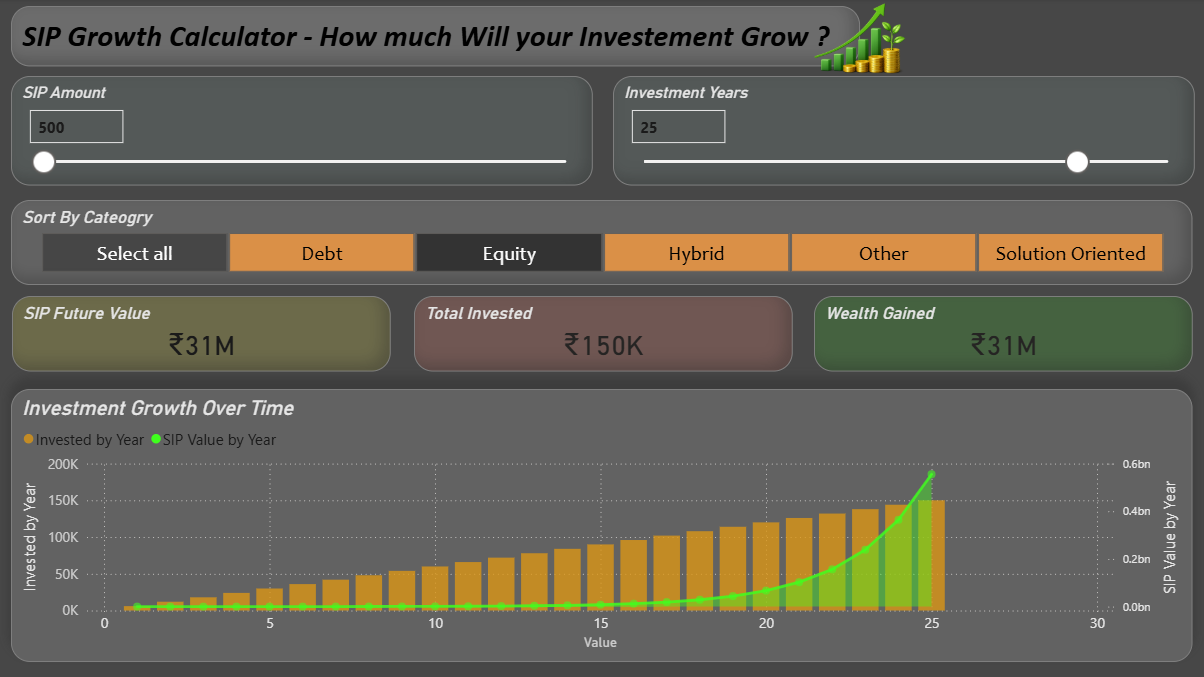

The dashboard page shown, as its layout file describes it:
{"tool":"powerbi","page":{"name":"SIP Growth Calculator ","canvas":[1280,720],"ordinal":2},"visuals":[{"type":"slicer","title":"SIP Amount ","fields":{"Values":["SIP Amount.SIP Amount"]},"box":[11.4,81.4,615.7,115.7],"z":0},{"type":"slicer","title":"Investment Years","fields":{"Values":["Investment Years.Investment Years"]},"box":[648.6,81.4,615.7,115.7],"z":1000},{"type":"card","title":"SIP Future Value ","fields":{"Values":["Investment Years.SIP Future Value"]},"box":[12.9,314.3,401.4,80],"z":2000},{"type":"card","title":"Total Invested ","fields":{"Values":["Investment Years.Total Invested"]},"box":[438.6,314.3,401.4,80],"z":3000},{"type":"card","title":"Wealth Gained","fields":{"Values":["Investment Years.Wealth Gained"]},"box":[861.4,314.3,401.4,80],"z":4000},{"type":"slicer","title":"Sort By Cateogry ","fields":{"Values":["categories.category"]},"box":[11.4,212.9,1251.4,90],"z":5000},{"type":"textbox","box":[11.4,7.1,898.6,64.3],"z":6000},{"type":"lineClusteredColumnComboChart","title":"Investment Growth Over Time","fields":{"Category":["Year Table.Value"],"Y":["Investment Years.Invested by Year"],"Y2":["Year Table.SIP Value by Year"]},"box":[11.4,412.9,1251.4,288.6],"z":7000},{"type":"image","box":[791.4,0,235.7,81.4],"z":8000}]}

Visuals, with their boxes in screenshot pixels (x1, y1, x2, y2), scaled from the page's 1280x720 canvas onto the 1204x677 screenshot:
"SIP Amount " slicer: (x1=11, y1=77, x2=590, y2=185)
"Investment Years" slicer: (x1=610, y1=77, x2=1189, y2=185)
"SIP Future Value " card: (x1=12, y1=296, x2=390, y2=371)
"Total Invested " card: (x1=413, y1=296, x2=790, y2=371)
"Wealth Gained" card: (x1=810, y1=296, x2=1188, y2=371)
"Sort By Cateogry " slicer: (x1=11, y1=200, x2=1188, y2=285)
textbox: (x1=11, y1=7, x2=856, y2=67)
"Investment Growth Over Time" lineClusteredColumnComboChart: (x1=11, y1=388, x2=1188, y2=660)
image: (x1=744, y1=0, x2=966, y2=77)
